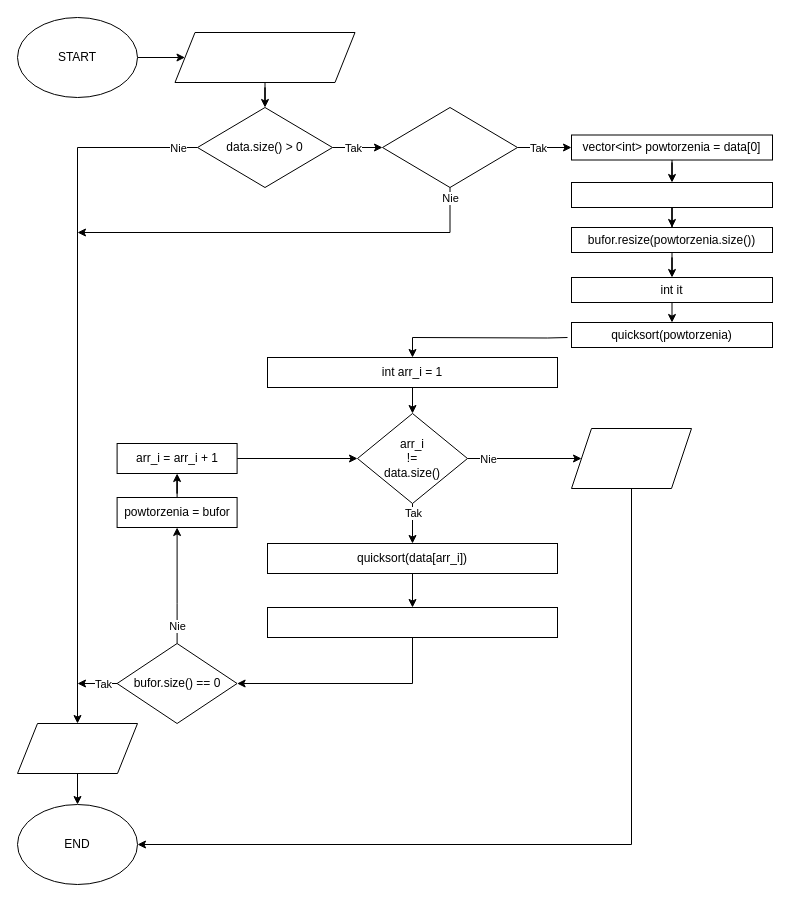
Image size: 790x902. Some labels were removed from this diagram. The centre of each missing label's shape, as x and y in pixels:
"data[0].size() > 0" belongs at pixel 450 147.
"it = intersection(powtorzenia, data[arr_i], &bufor)" belongs at pixel 412 622.
"vector<int> bufor" belongs at pixel 671 195.
"wejście: vector<vector<int>>data" belongs at pixel 264 57.
"wyjście: array[]" belongs at pixel 77 748.
"wyjście: powtorzenia" belongs at pixel 631 458.
